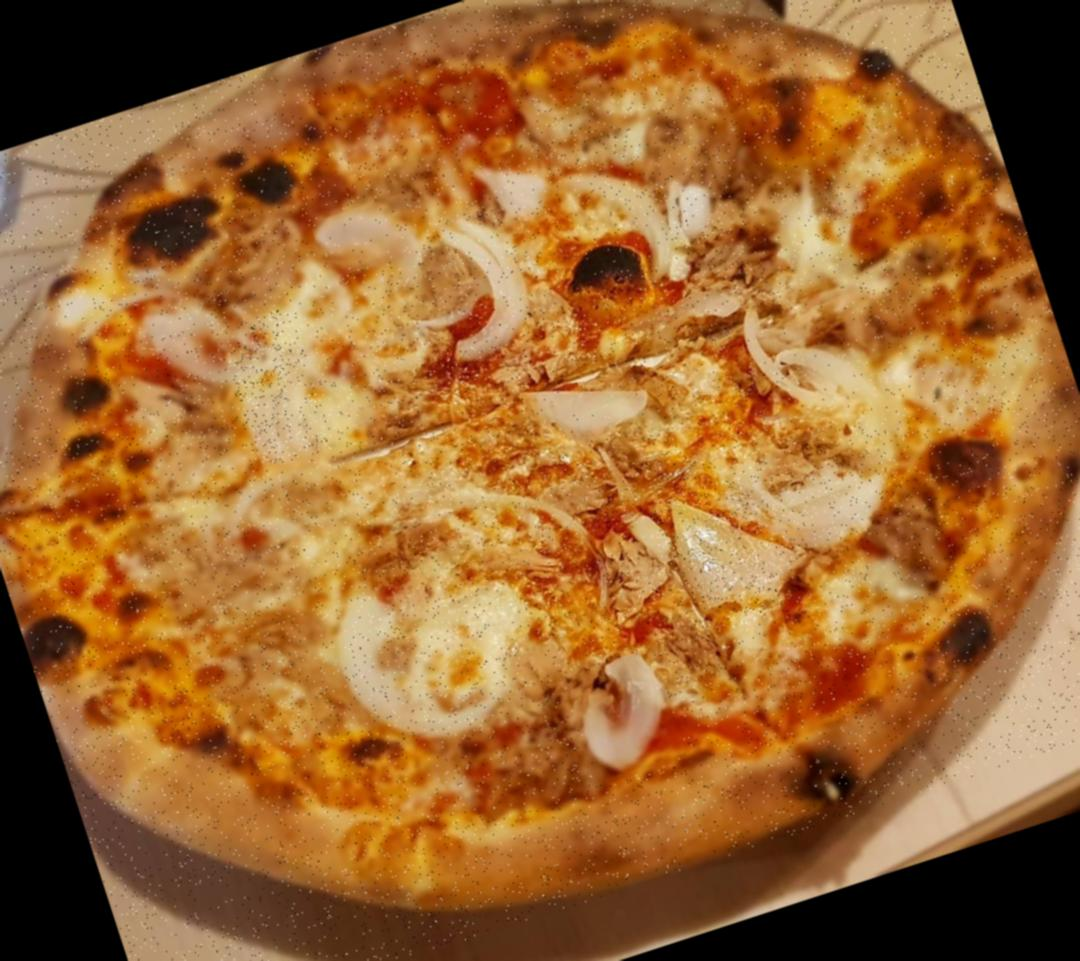Onion: (319, 562, 520, 756), (732, 274, 890, 439), (736, 422, 904, 568), (648, 474, 782, 636), (415, 207, 540, 368), (218, 305, 335, 470), (564, 647, 688, 784), (520, 352, 664, 460), (312, 193, 421, 278), (480, 142, 558, 226), (656, 170, 726, 248)
Pizza: (0, 0, 1080, 961)
